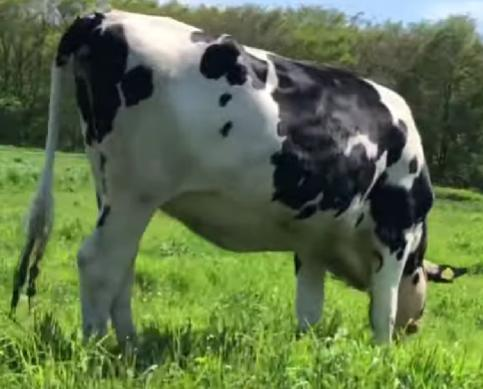cow: (10, 8, 435, 354)
